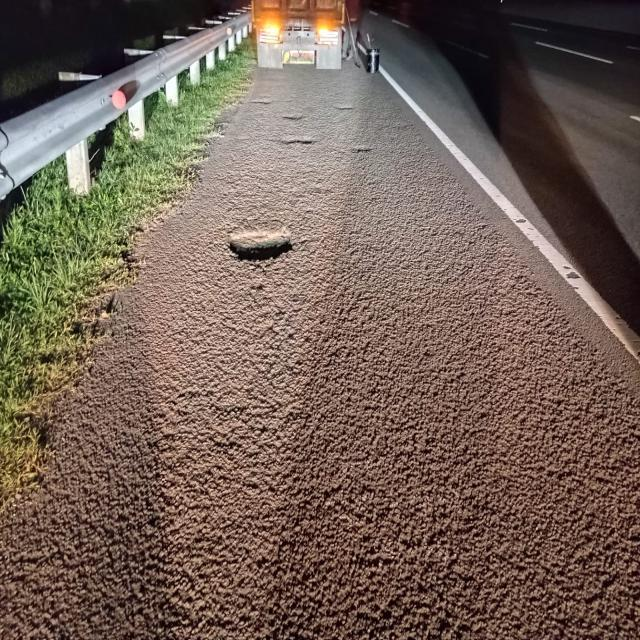Buraco: (223, 224, 312, 266), (260, 134, 322, 148), (245, 97, 295, 107), (348, 144, 377, 156), (280, 113, 309, 123), (329, 103, 358, 113)
